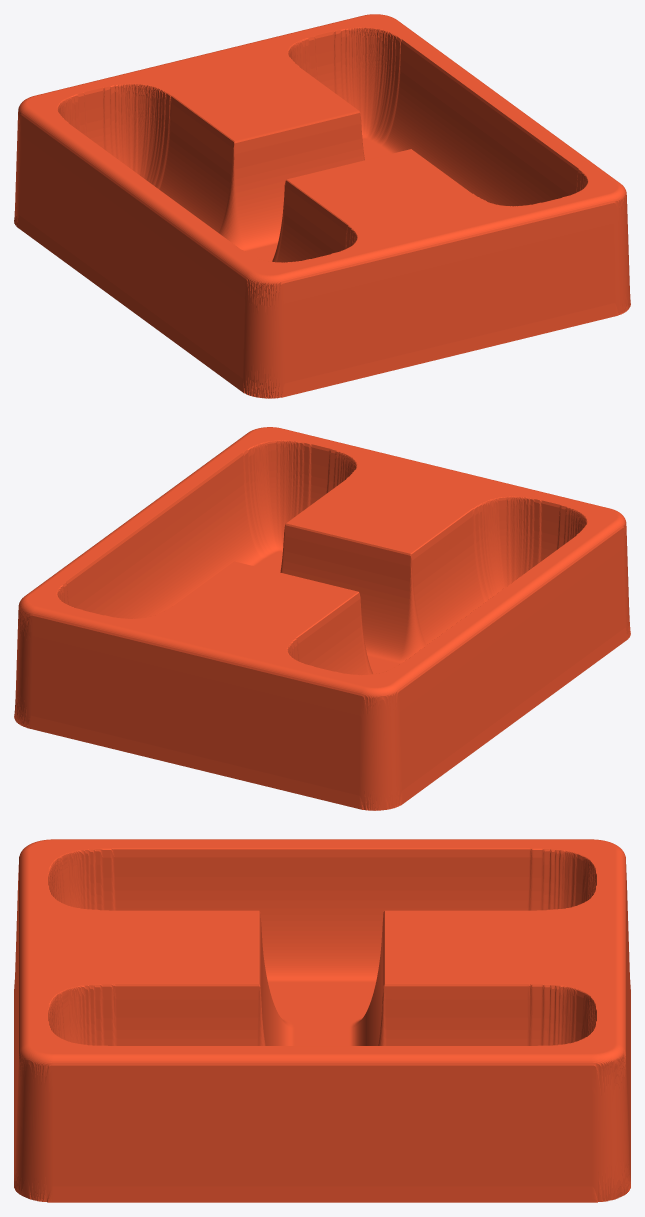
The model's file is mold.glb.
3 views of the same model, one above another, from view 1: azimuth 30°, elevation 25°; view 2: azimuth 150°, elevation 25°; view 3: azimuth 270°, elevation 25° (orthographic). The views are drawn at different scales.
Visible parts, largest first — view 1: geometry_0; view 2: geometry_0; view 3: geometry_0.
Part boxes in pixels (box(x1,y1,x2,y2)): geometry_0: box(14, 14, 630, 398); geometry_0: box(14, 427, 630, 810); geometry_0: box(14, 839, 630, 1202).
Size of the model in its own units: 0.1246 by 0.0365 by 0.1435.
